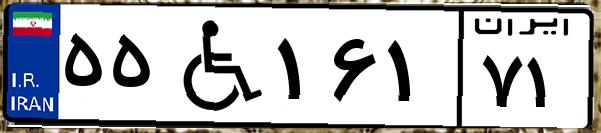1: (270, 28, 330, 110), (385, 28, 445, 110), (525, 38, 570, 115)
5: (57, 26, 110, 100), (110, 28, 158, 98)
6: (330, 28, 385, 110)
7: (475, 38, 525, 113)
ژ (معلولین و جانبازان): (158, 12, 270, 120)
